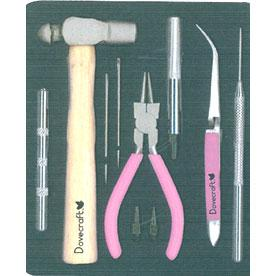hammer: (35, 13, 138, 267)
